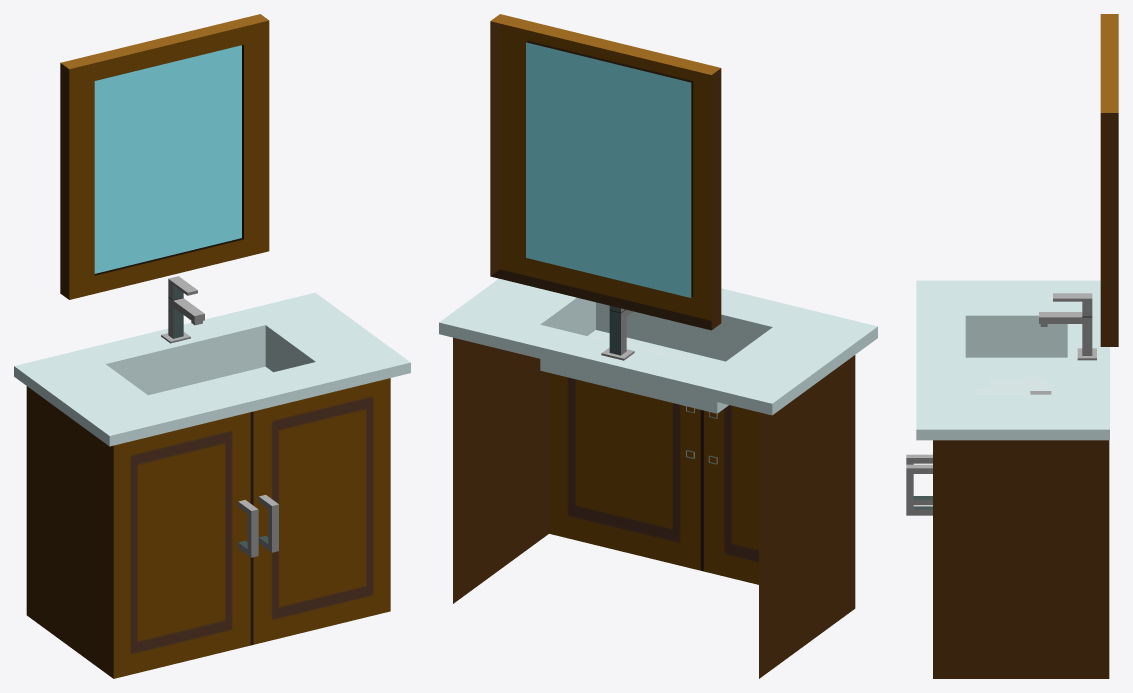
File: Lavabo+mirroir.fbx
The picture shows the model from 3 angles, left to right: view 1: azimuth 30°, elevation 25°; view 2: azimuth 150°, elevation 25°; view 3: azimuth 270°, elevation 25°; orthographic projection. The views are drawn at different scales.
Parts seen in each view (by area): view 1: Lavabo, Mirror; view 2: Lavabo, Mirror; view 3: Lavabo, Mirror.
Boxes of the visible parts, bbox=[...] form: Lavabo: bbox=[14, 276, 410, 678]; Mirror: bbox=[60, 14, 269, 299]; Lavabo: bbox=[439, 278, 877, 678]; Mirror: bbox=[490, 14, 721, 330]; Lavabo: bbox=[906, 280, 1109, 678]; Mirror: bbox=[1100, 14, 1118, 346].
Bounding box in the file's own units: 154 × 263 × 92.57.
